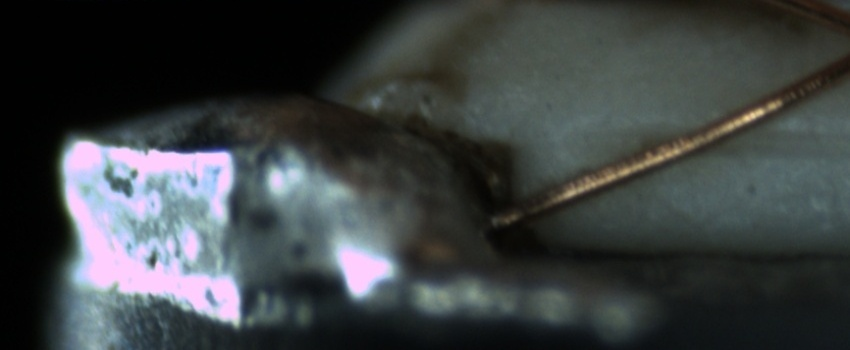DL: (611, 102, 846, 176)
